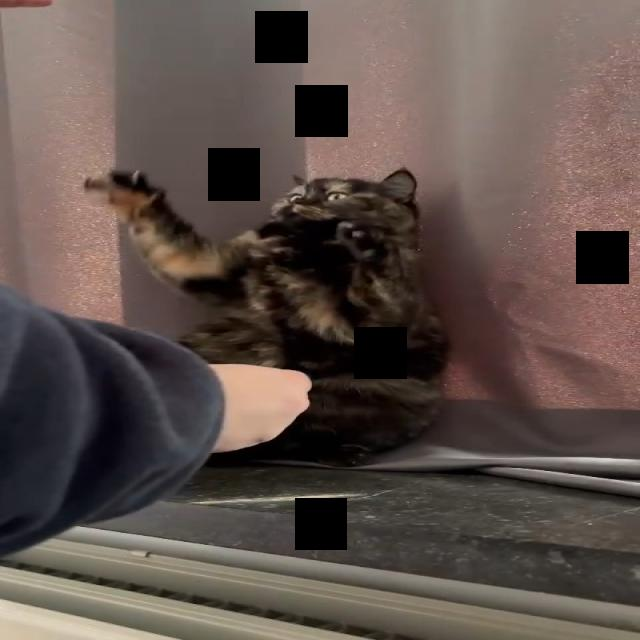authorized: (81, 166, 451, 467)
